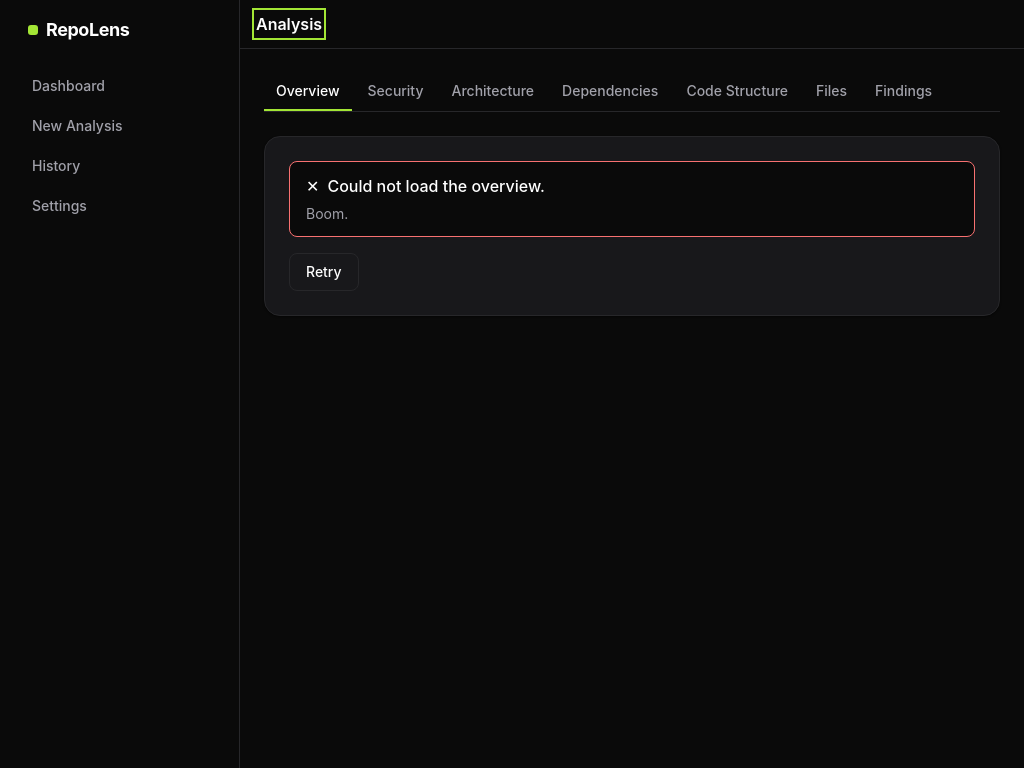
it: Overview page › retries after API failures
Click the button "Retry" at (324, 272), box left=289, top=253, right=359, bottom=291
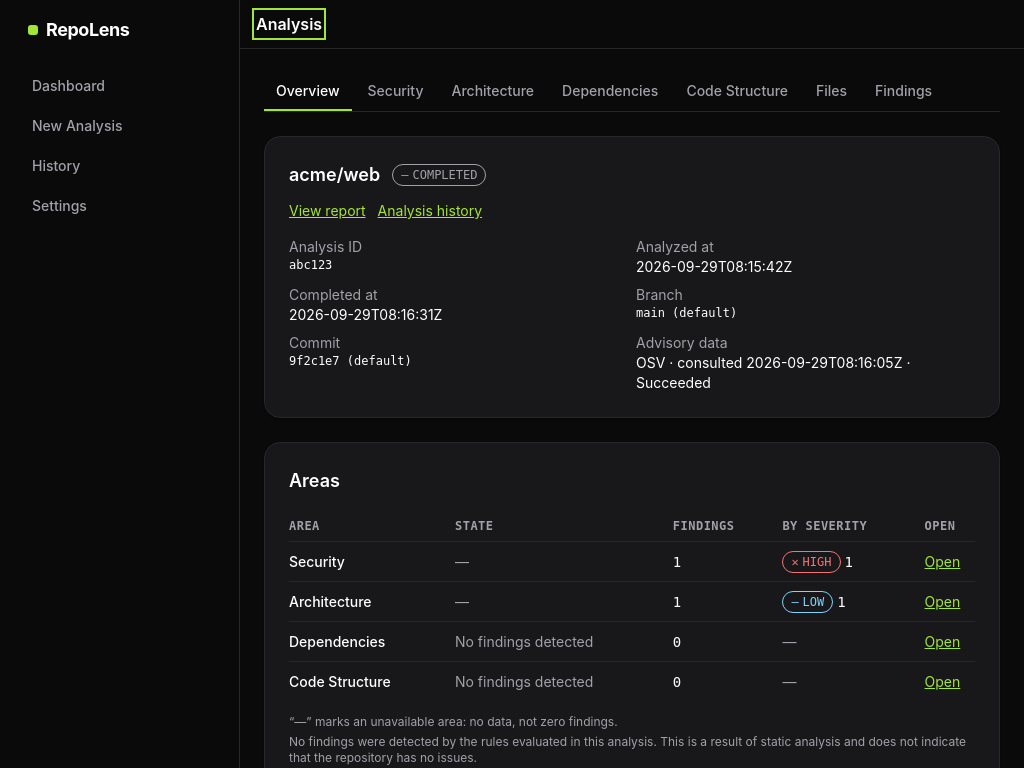
Now the heading "acme/web" is shown, box left=289, top=161, right=380, bottom=189
